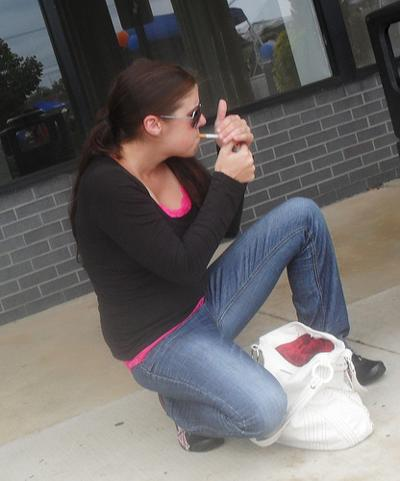person: (73, 55, 389, 458)
